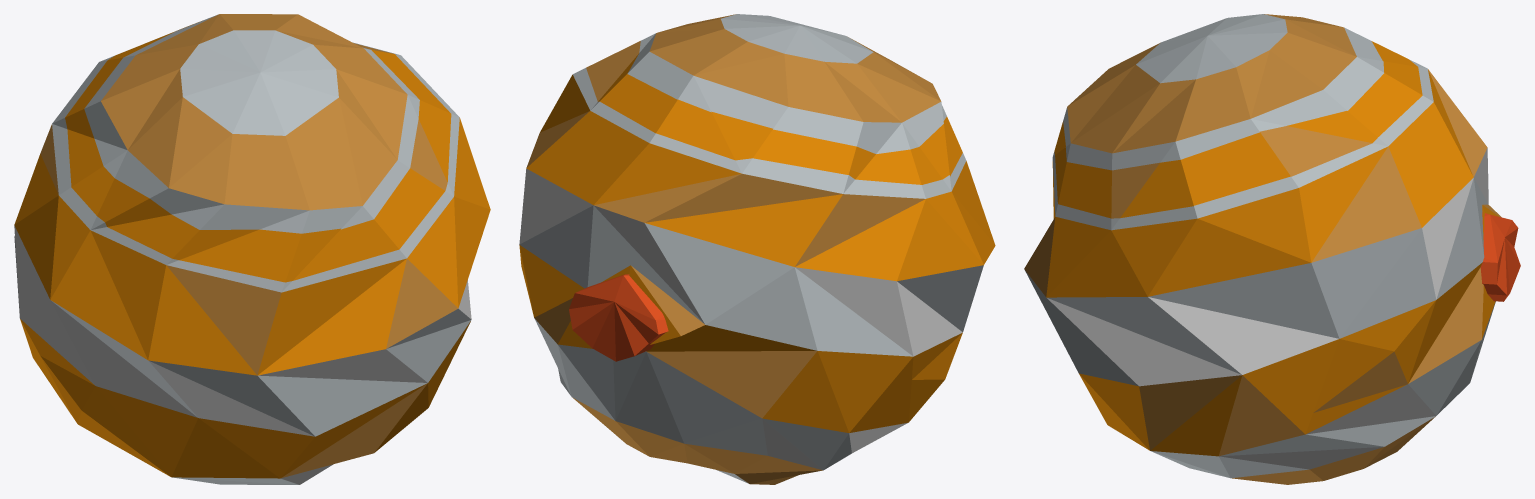
3 renders of one model, left to right at view 1: azimuth 30°, elevation 25°; view 2: azimuth 150°, elevation 25°; view 3: azimuth 270°, elevation 25°, orthographic.
Parts seen in each view (by area): view 1: node_MeshObject-734860544-PolyPaper15; view 2: node_MeshObject-734860544-PolyPaper15; view 3: node_MeshObject-734860544-PolyPaper15.
Boxes of the visible parts, x1,y1,x2,y2 form: node_MeshObject-734860544-PolyPaper15: (14,14,490,484); node_MeshObject-734860544-PolyPaper15: (519,14,995,484); node_MeshObject-734860544-PolyPaper15: (1024,14,1520,484).
Size of the model in its own units: 1.15 by 1.15 by 1.19.
